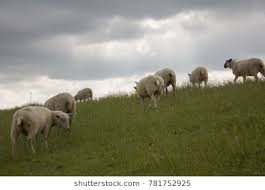sheep: (11, 106, 72, 158), (223, 57, 265, 82), (133, 74, 164, 106), (46, 92, 75, 113), (187, 65, 209, 87), (75, 86, 95, 106)
